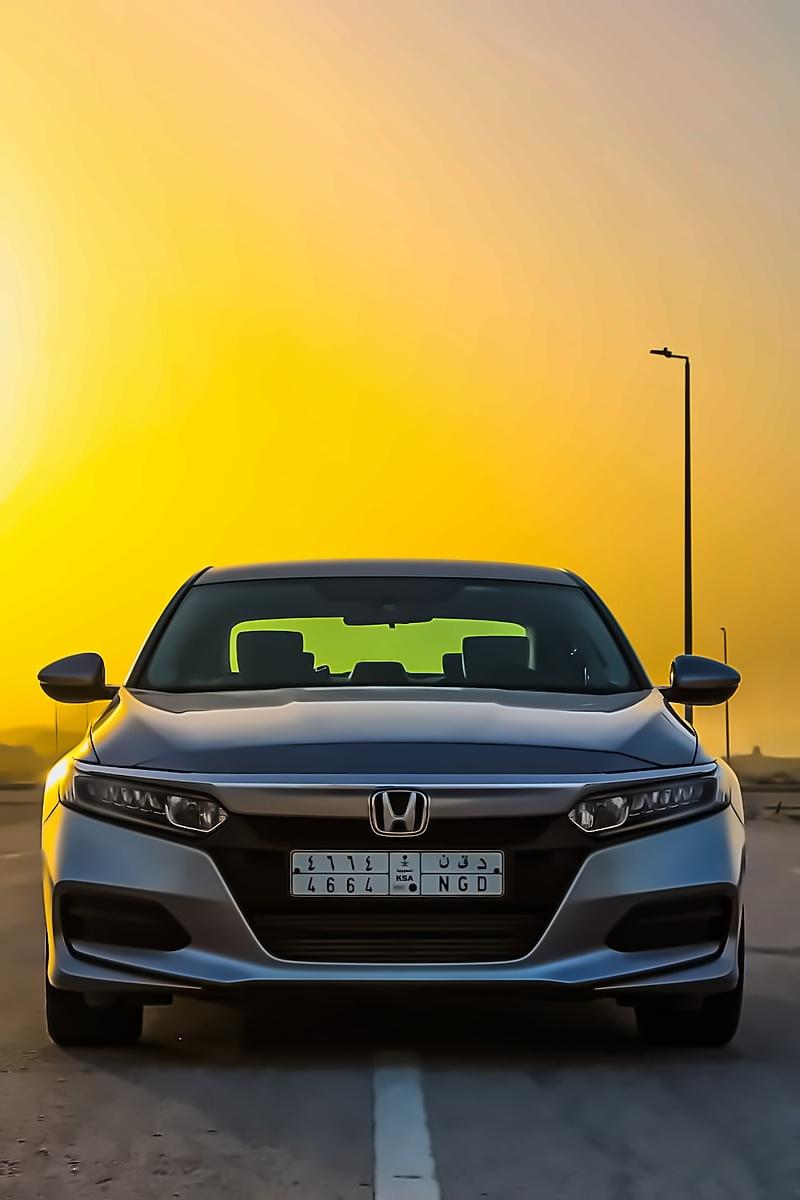Car hood: (62, 684, 718, 795)
Front bumper: (30, 802, 750, 1021)
Headlight - -L-: (563, 764, 720, 839)
Headlight - -R-: (54, 754, 231, 843)
Side mirror - -L-: (650, 648, 741, 706)
Side mirror - -R-: (36, 650, 121, 713)
